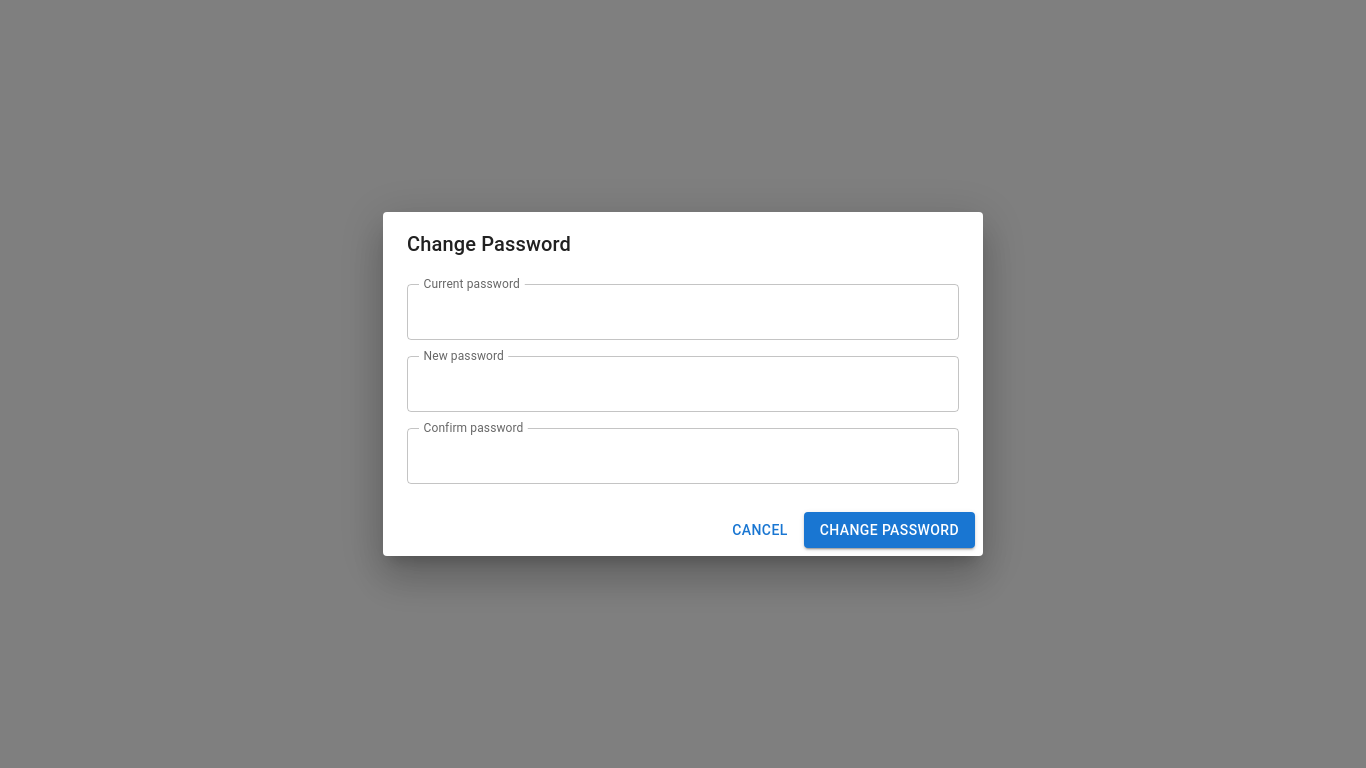
ChangePasswordDialog › shows error when passwords do not match
In the password field labelled "Current password": coordinates (683, 312) [407,284,959,340], type "old123"
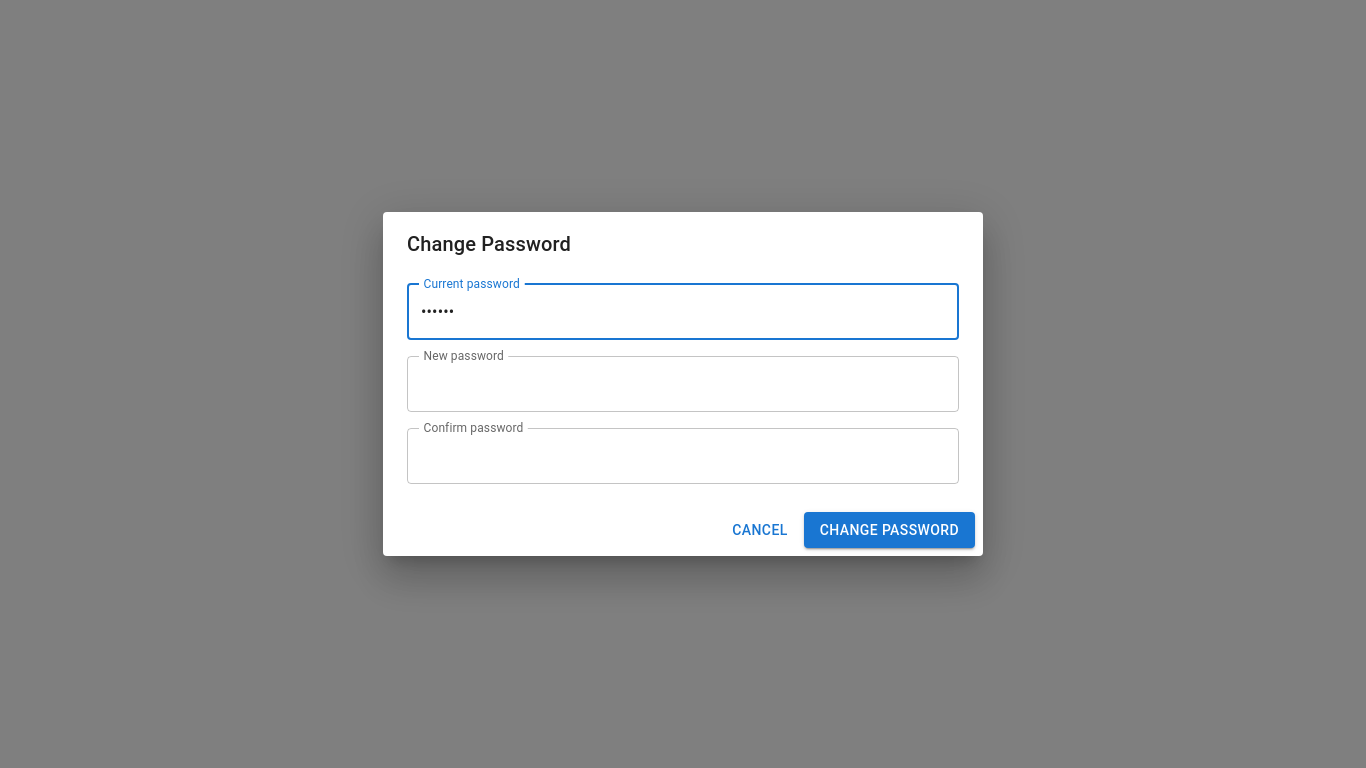
In the password field labelled "New password": coordinates (683, 384) [407,356,959,412], type "newpass1"
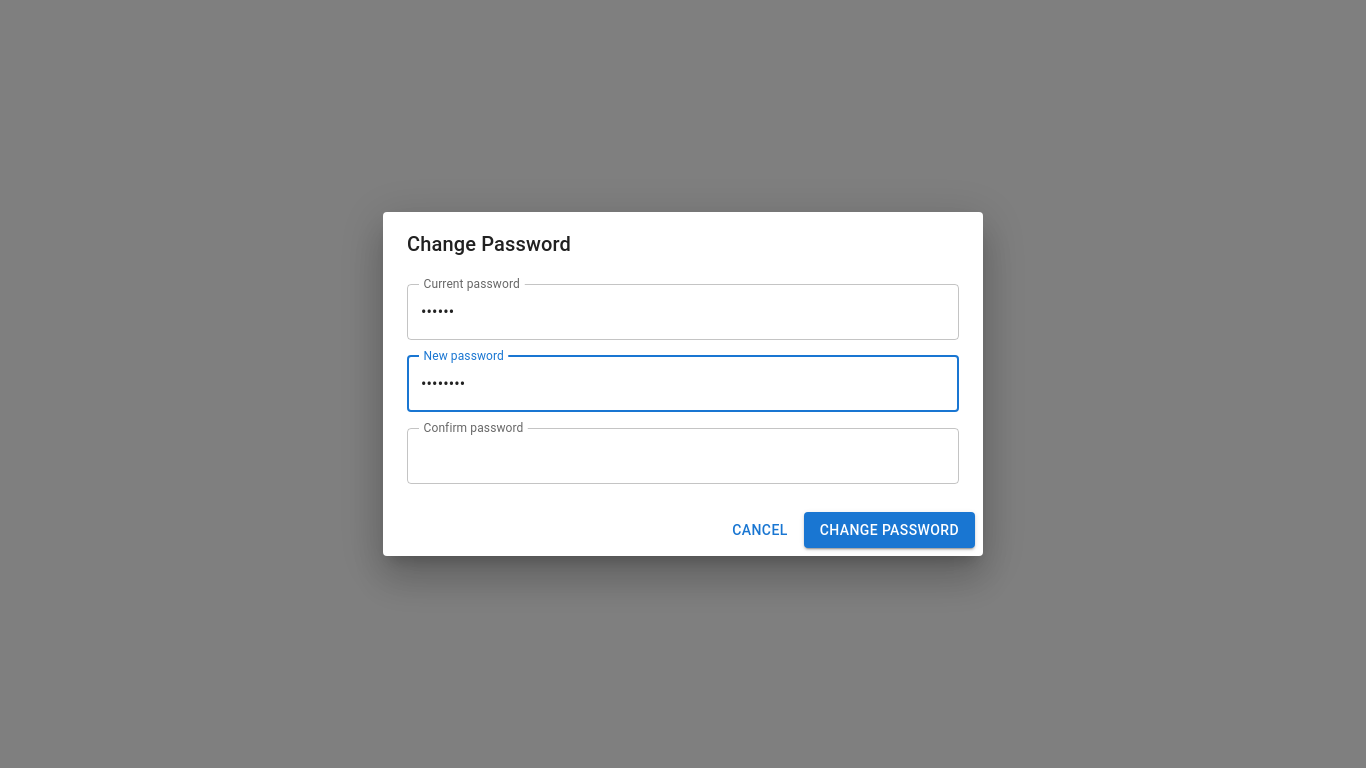
In the password field labelled "Confirm password": coordinates (683, 456) [407,428,959,484], type "newpass2"
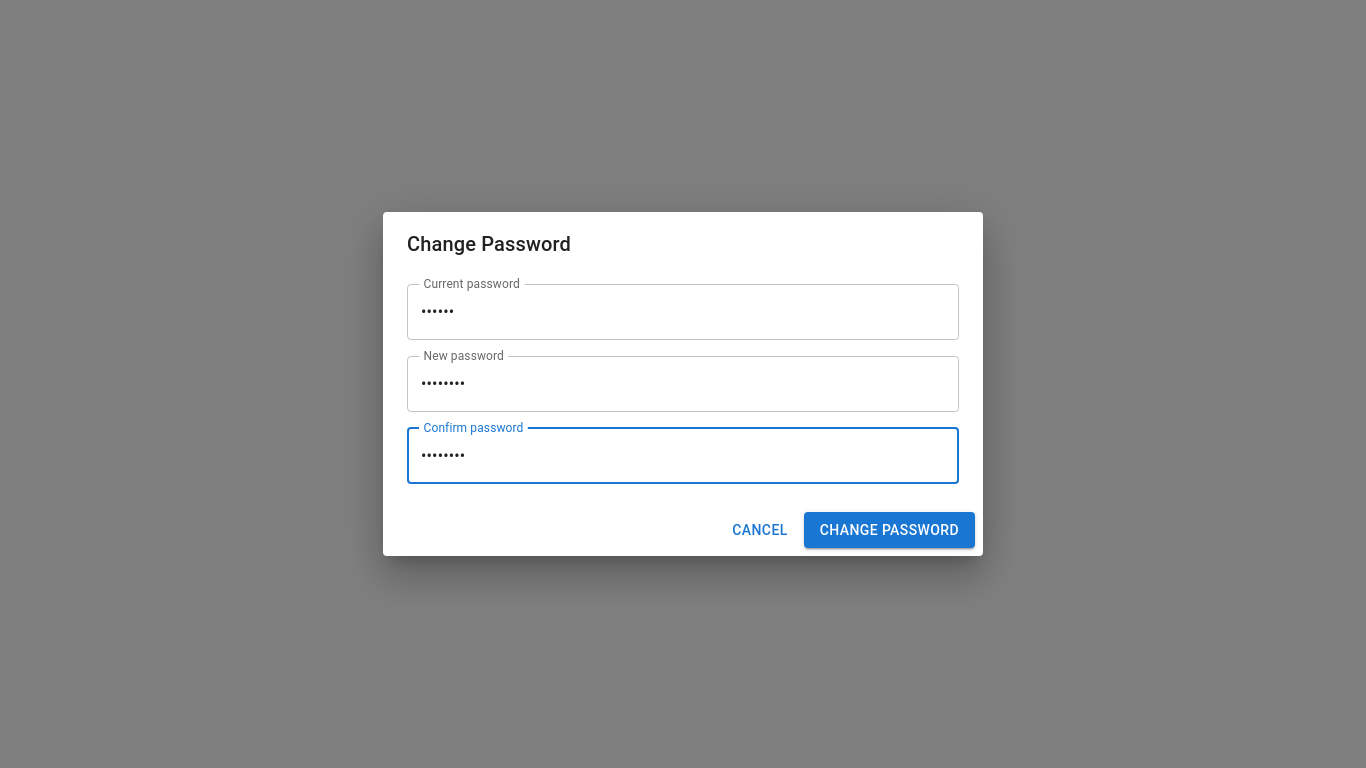
Click the button "Change Password": coordinates (889, 530) [804,512,975,548]
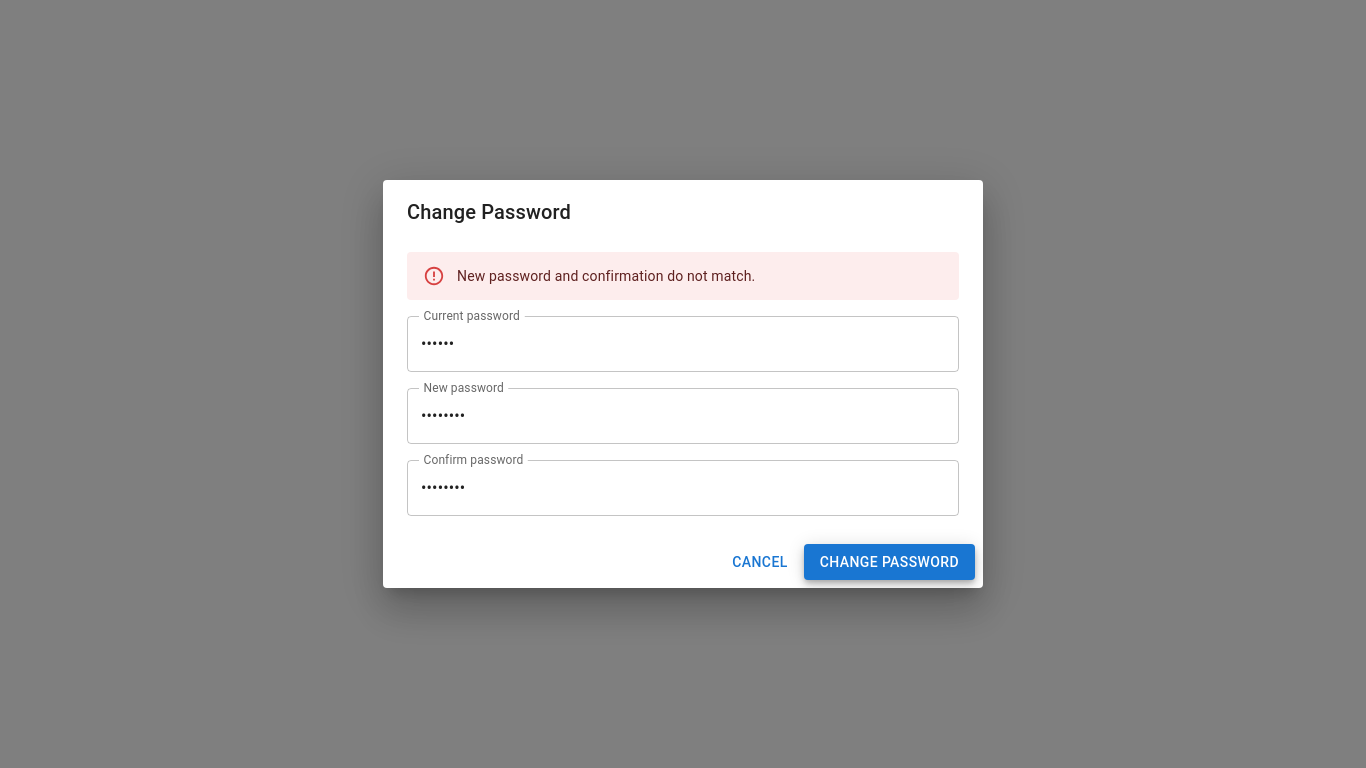
Expected: the message shows "do not match", [457,268,755,284]
